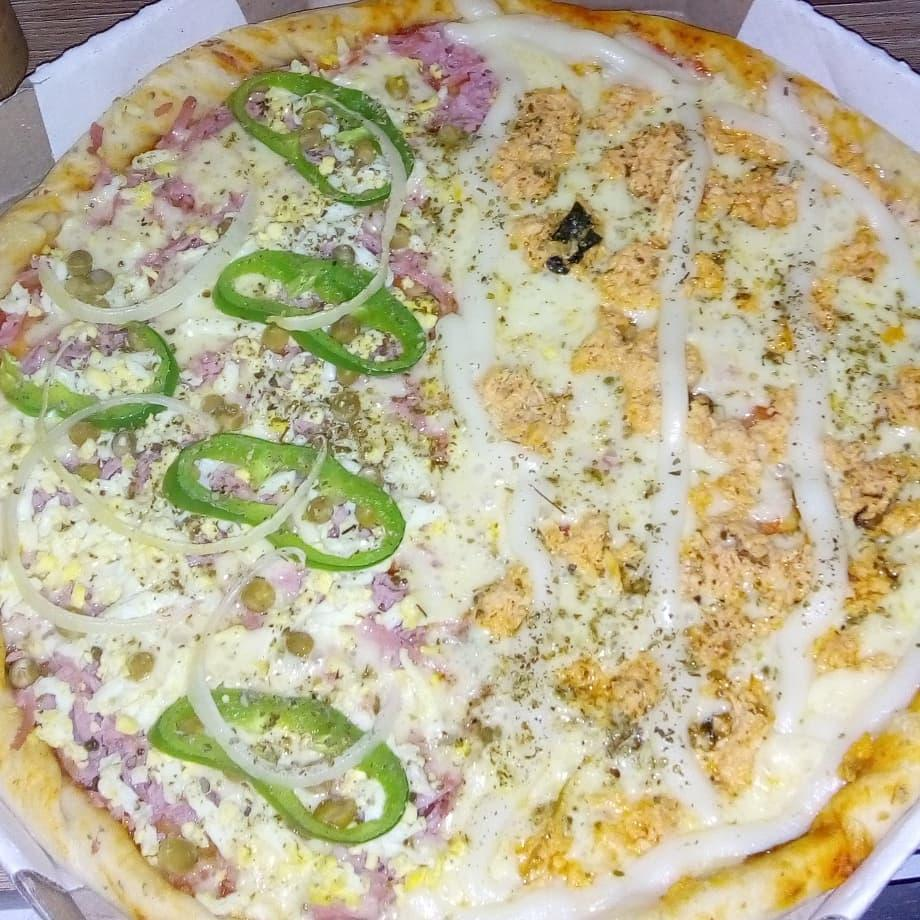Onion: (185, 566, 267, 688), (0, 438, 49, 631), (193, 701, 265, 784), (370, 163, 410, 280), (48, 285, 195, 316), (268, 295, 362, 333), (358, 698, 403, 768), (266, 754, 358, 786)
Peppers: (156, 697, 411, 839), (158, 431, 407, 565), (216, 250, 427, 372), (229, 73, 410, 200), (0, 316, 177, 425)
Pizza: (0, 0, 920, 920)
